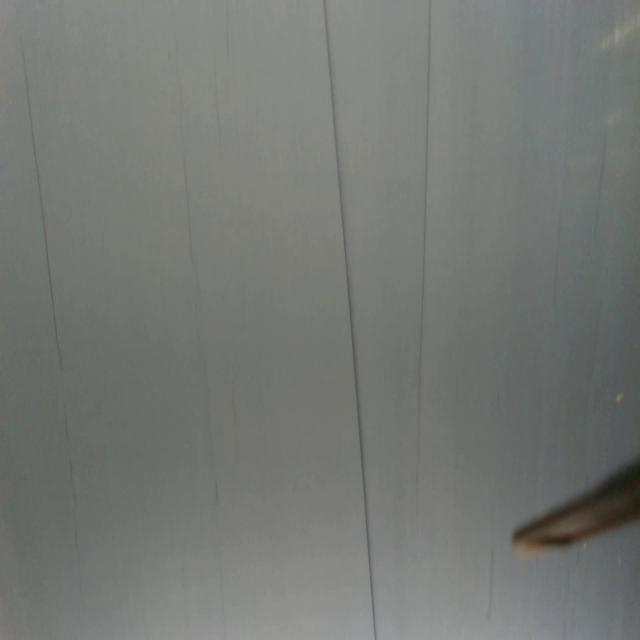crease: (322, 3, 376, 639), (22, 55, 62, 370), (416, 0, 432, 521), (172, 8, 196, 282), (551, 176, 567, 310), (592, 126, 608, 243)
hole: (615, 390, 626, 408)
